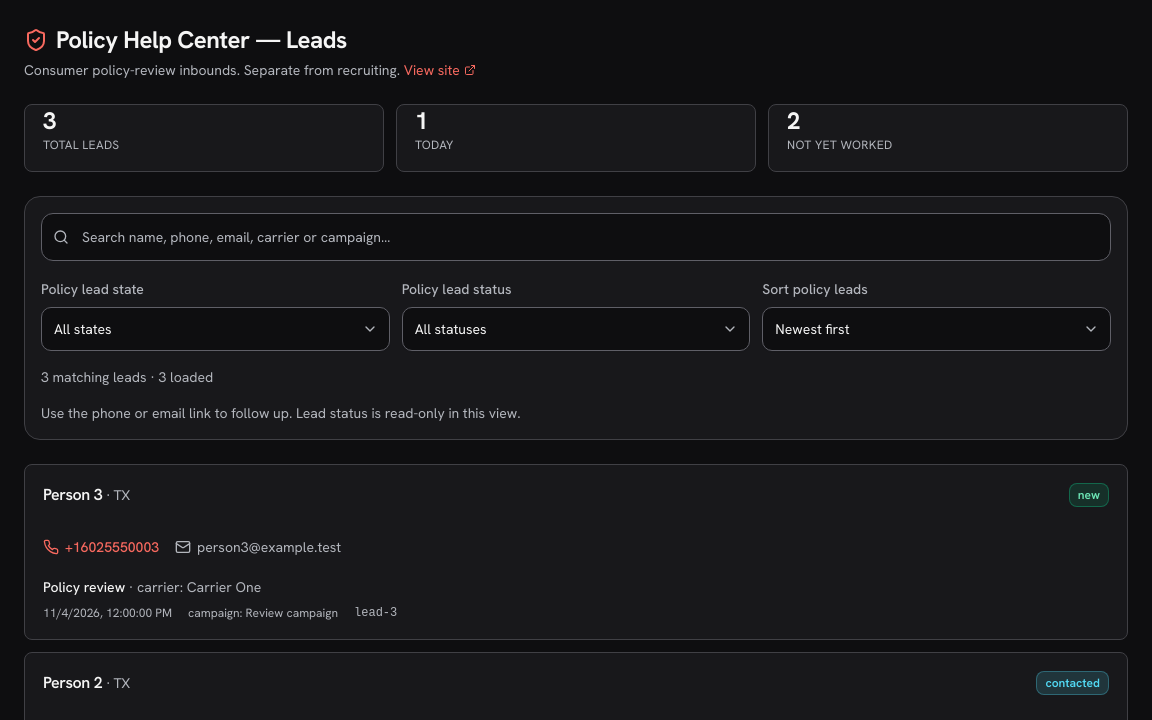
Test: consumer policy lead worklist › combines state/status filters, formatted-phone search and one-tap reset
Select "TX" in the dropdown labelled "Policy lead state" at point(215, 329), box [41,307,390,351]
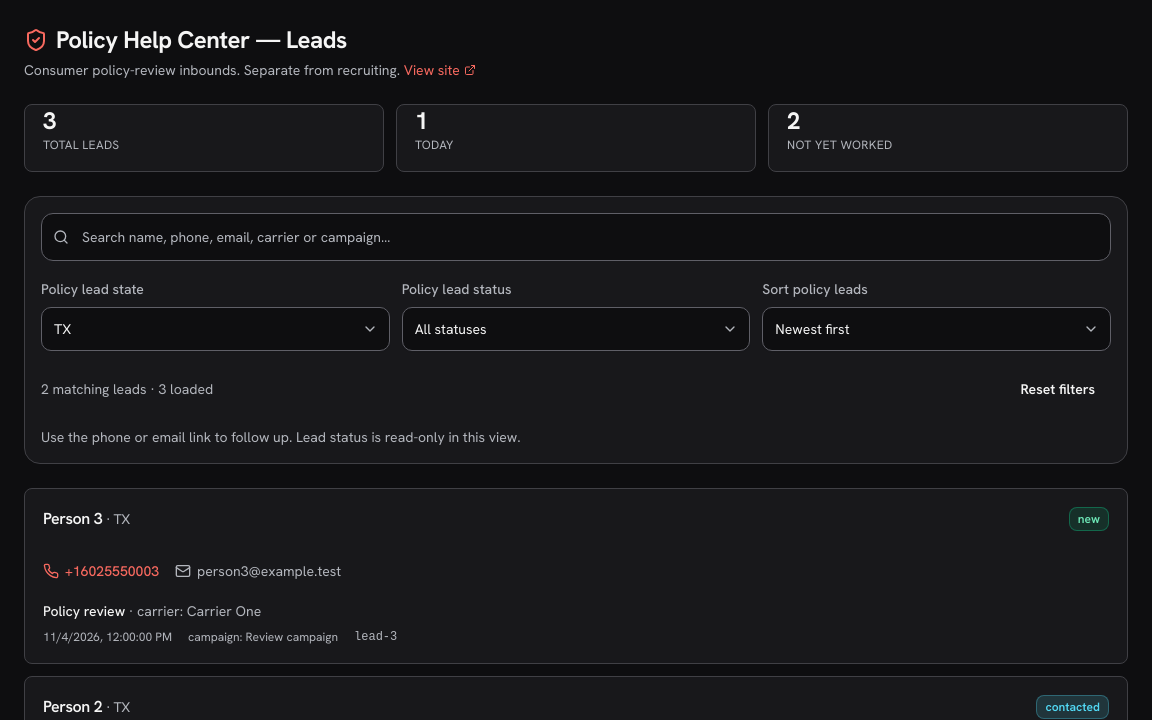
Select "contacted" in the dropdown labelled "Policy lead status" at point(576, 329), box [402,307,750,351]
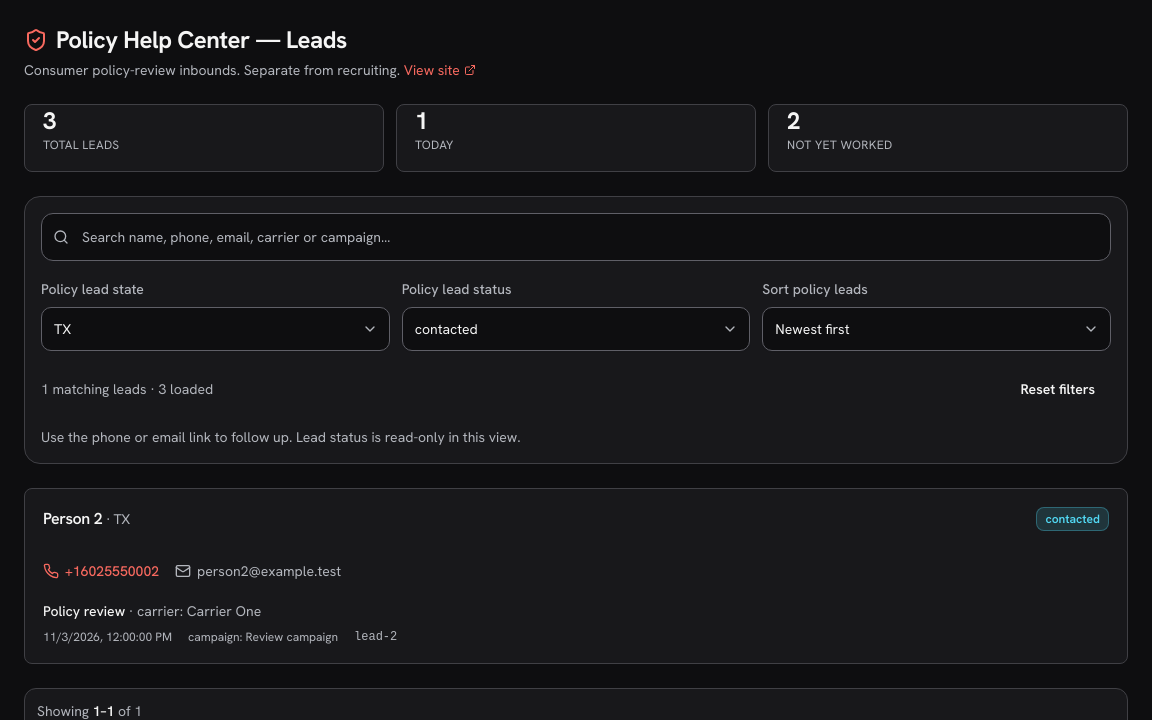
Expected: the heading "Person 2 · TX" is shown, [43,507,130,531]
Expected: the heading "Person 3" is gone
Type "(602) 555-0002" into the search field named "Search policy leads".
click(576, 237); type("(602) 555-0002")  # box [41,213,1111,261]
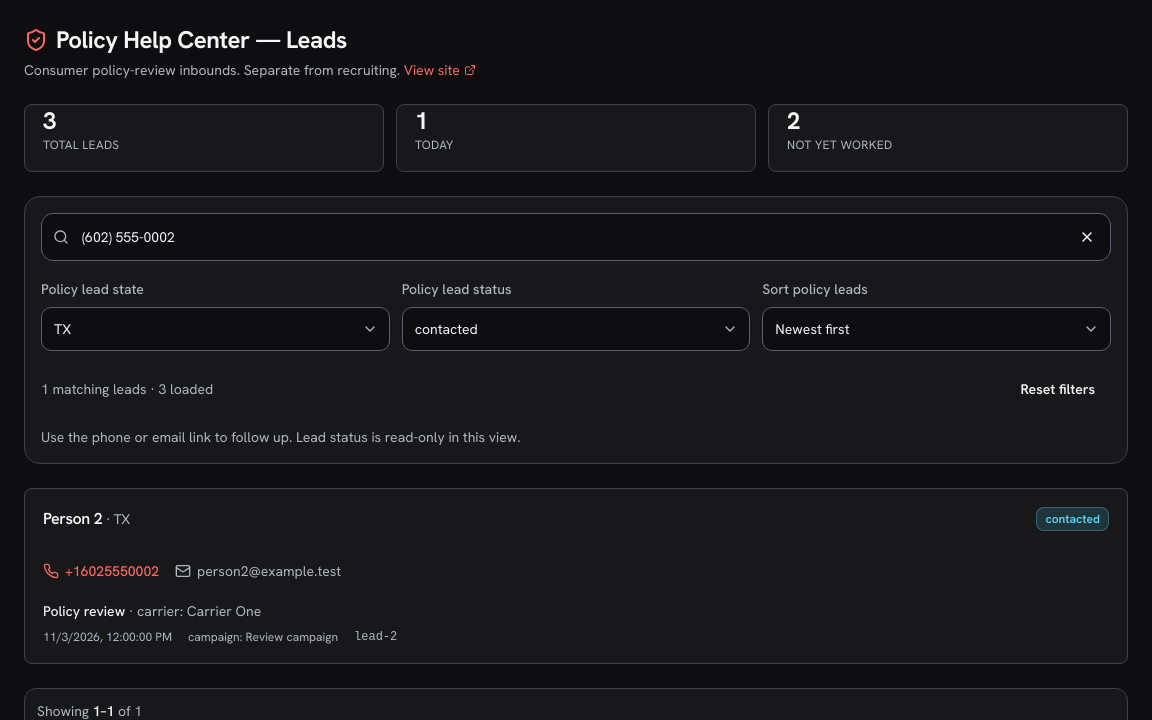
Expected: the heading "Person 2 · TX" is shown, [43,507,130,531]
Replace the text in the search field named "Search policy leads" with "unknown" at point(576, 237), box [41,213,1111,261]
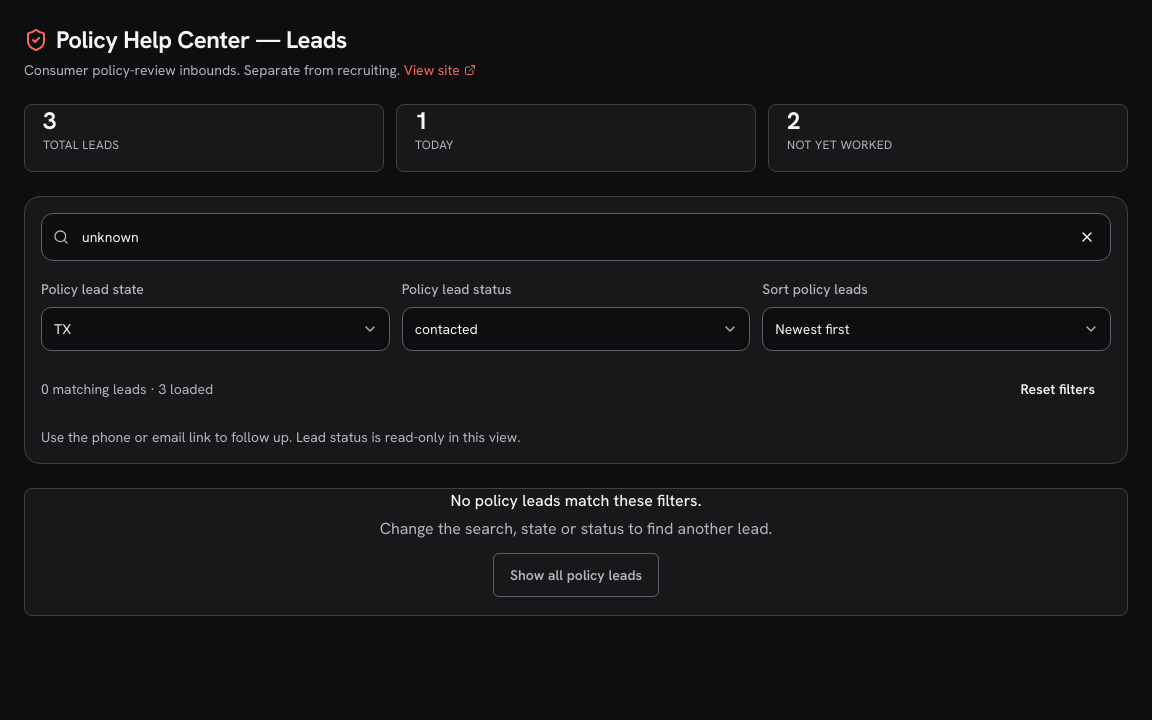
Expected: the text "No policy leads match these filters." is shown, [450,490,702,511]
Click the button "Show all policy leads".
click(576, 575)  # box [493,553,659,597]
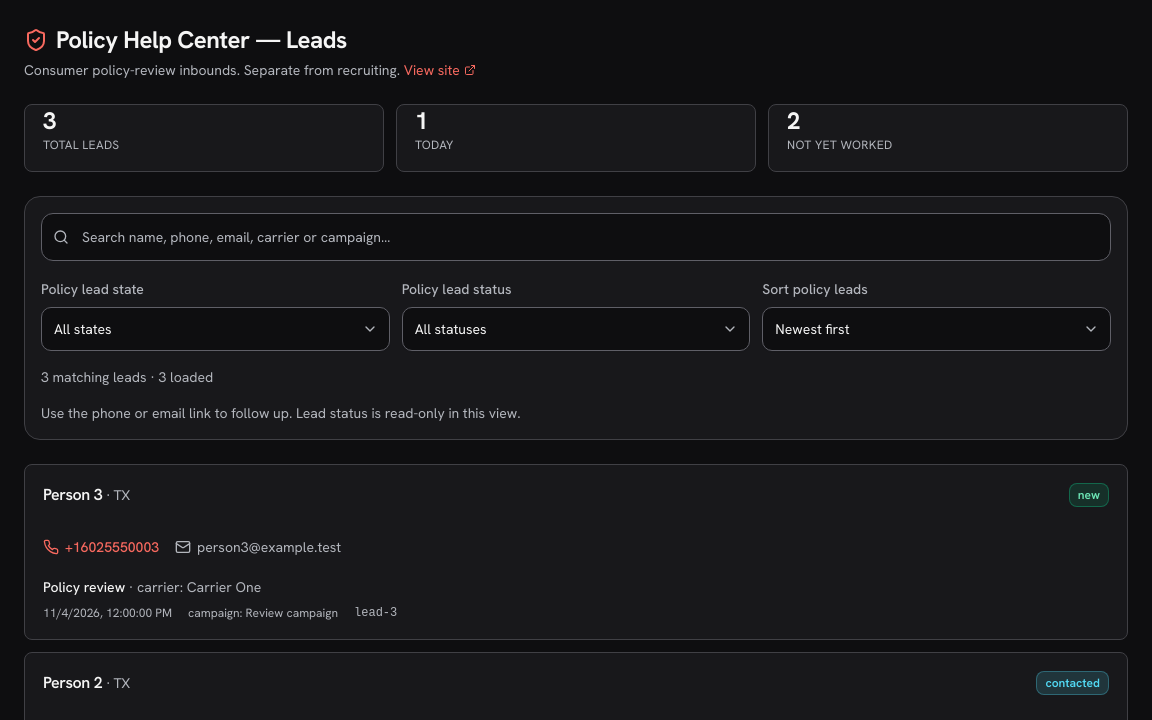
Expected: the heading "Person 3 · TX" is shown, [43,483,130,507]
